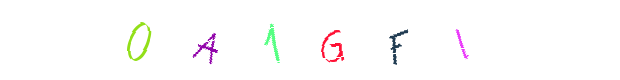0: (98, 0, 178, 80)
1: (246, 0, 326, 80)
A: (228, 0, 308, 80)
F: (293, 0, 373, 80)
G: (270, 0, 350, 80)
I: (356, 0, 436, 80)
